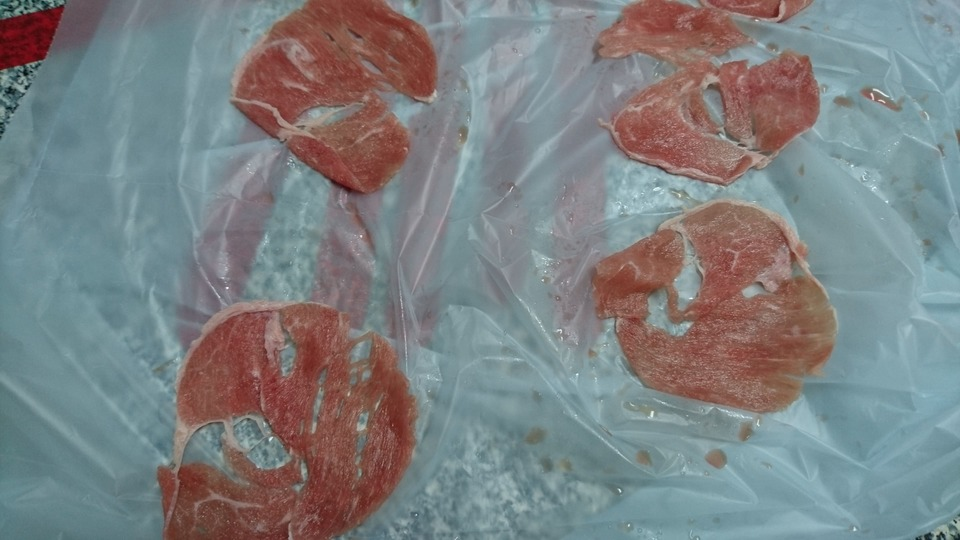restructured meat: (157, 307, 425, 539), (592, 200, 855, 425), (229, 8, 473, 198), (590, 4, 827, 191)
